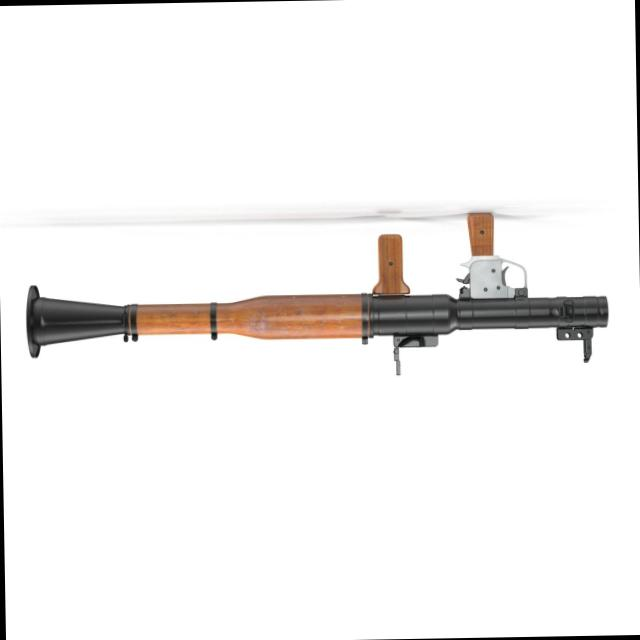Gun: (14, 196, 622, 393)
